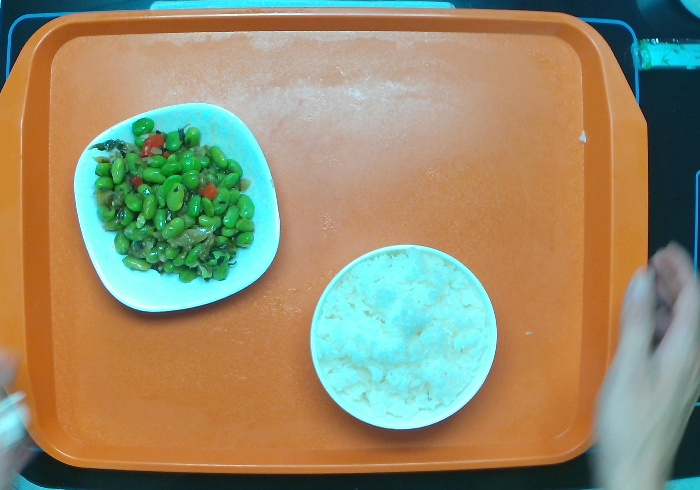ZNLD-Fan_Wan: (308, 241, 500, 431)
ZNLD-Si_Fang_Wan: (71, 99, 282, 314)
